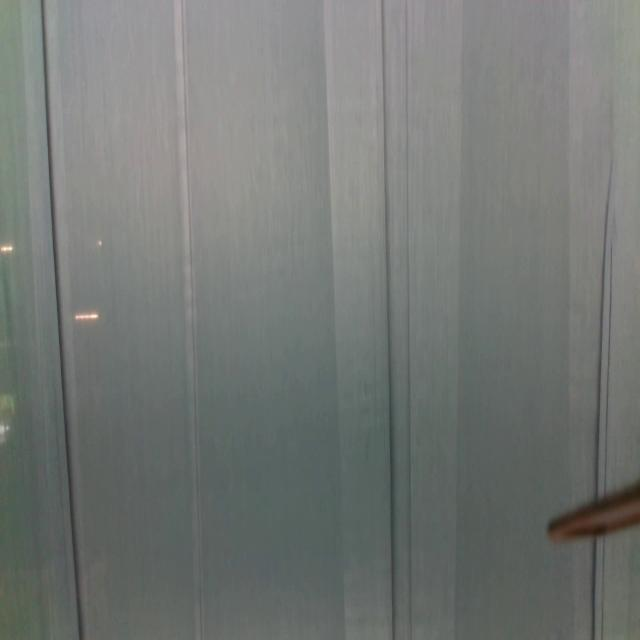crease: (21, 0, 86, 640), (380, 0, 413, 640), (174, 0, 206, 640), (594, 163, 613, 494), (591, 536, 607, 640)
